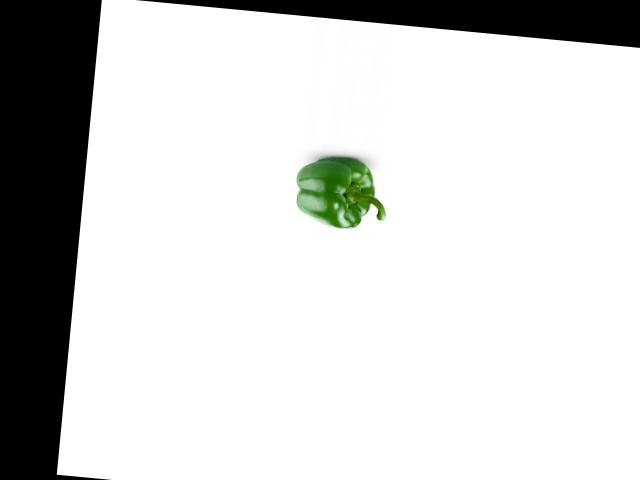bell_pepper: (289, 154, 392, 233)
